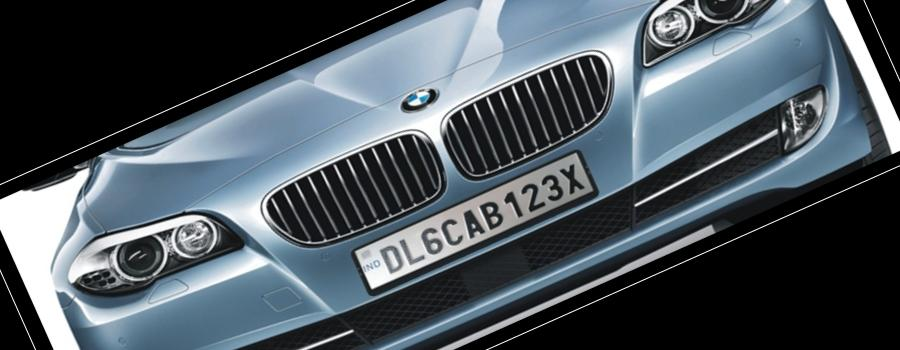plate: (334, 131, 622, 314)
